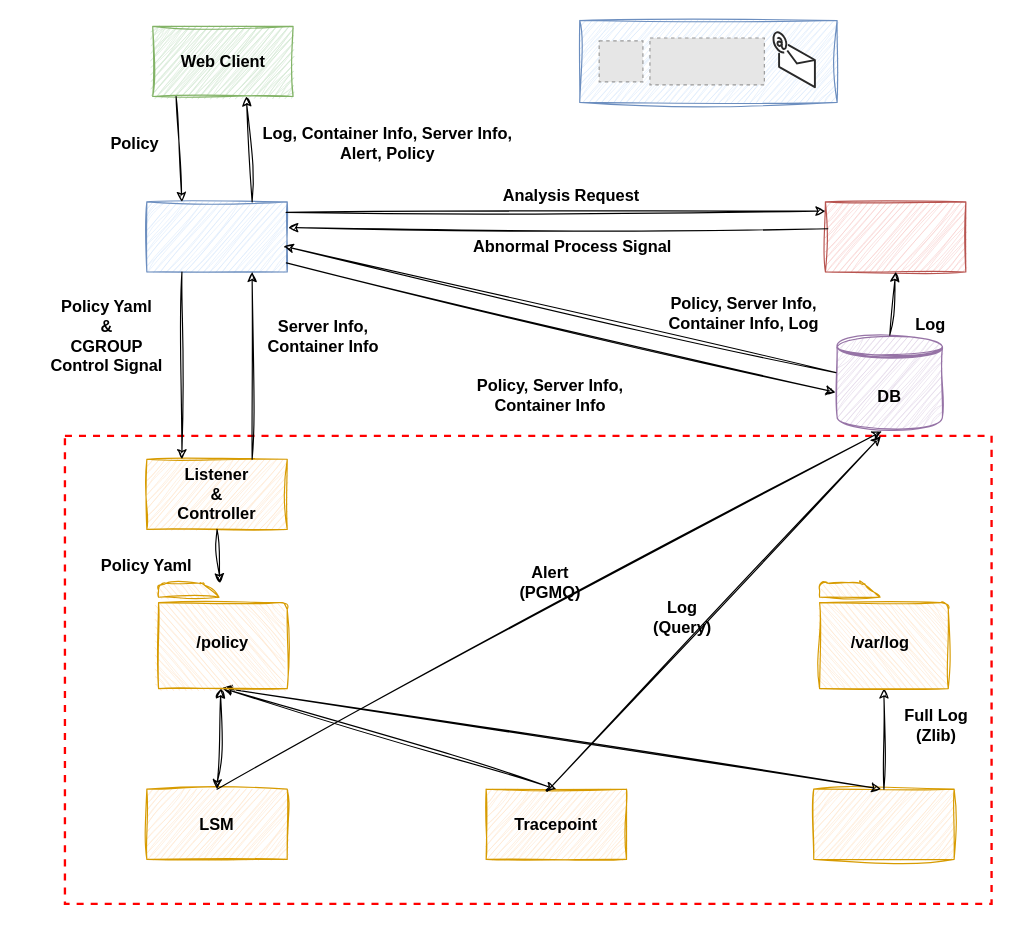
Image size: 1012x925. Some labels were removed from this diagram. Grey dashed boxes stand in for pictures. Here are the shapes that lost their labels. From the top down, the centre of each, then its label:
point (216, 236): Back End
point (895, 236): Static Analysis
point (883, 823): Raw TracePoint
